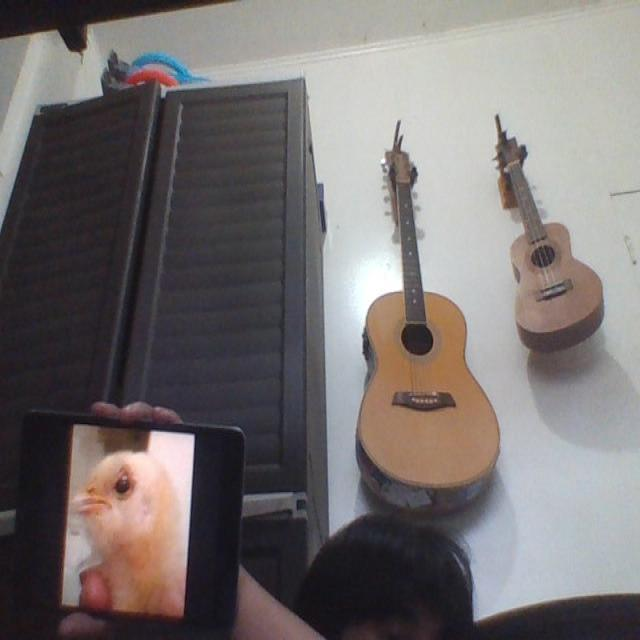Sick: (70, 449, 184, 617)
